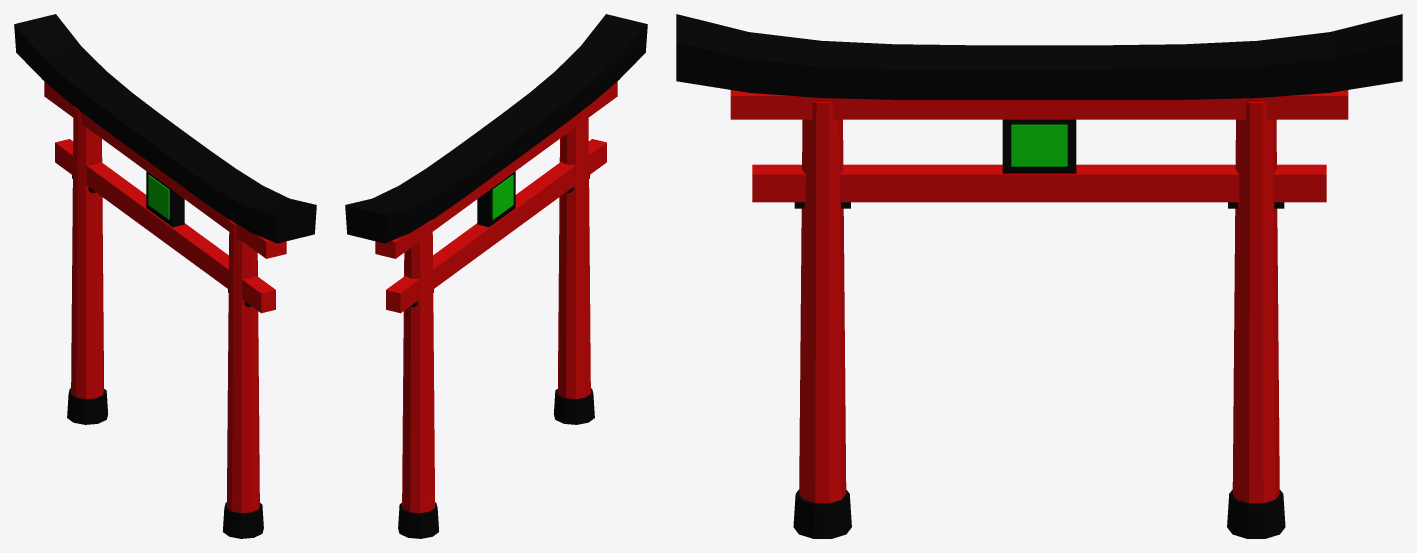
Rendered from SM_TN_Torii.fbx.
The picture shows the model from 3 angles, left to right: view 1: azimuth 30°, elevation 25°; view 2: azimuth 150°, elevation 25°; view 3: azimuth 270°, elevation 25°; orthographic projection. The views are drawn at different scales.
Visible parts, largest first — view 1: SM_TN_Torii; view 2: SM_TN_Torii; view 3: SM_TN_Torii.
Boxes of the visible parts, x1,y1,x2,y2 form: SM_TN_Torii: (14,14,316,538); SM_TN_Torii: (345,14,647,538); SM_TN_Torii: (676,14,1402,538).
Size of what is drawn, in the model's own units: 62 by 508 by 670.
